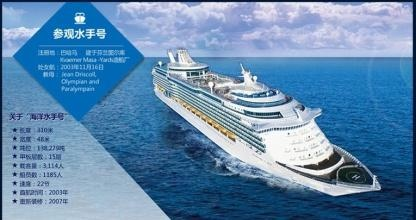youlun: (145, 41, 383, 195)
